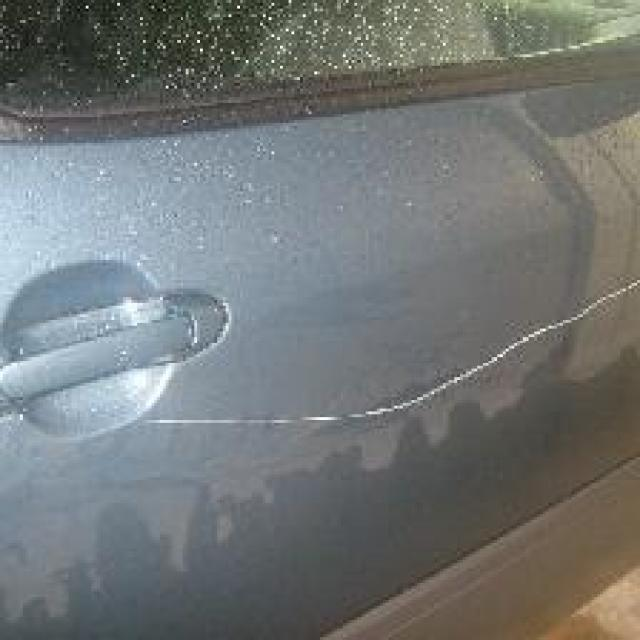damaged: (148, 280, 638, 437)
